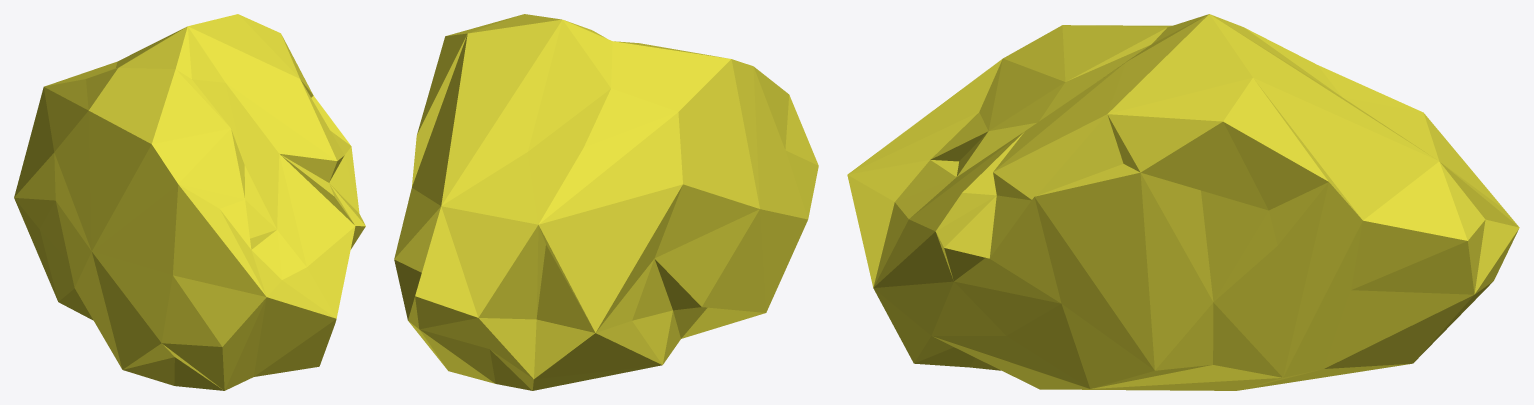
Rendered from meteor_yellow_bond_resin_02.glb.
3 renders of one model, left to right at view 1: azimuth 30°, elevation 25°; view 2: azimuth 150°, elevation 25°; view 3: azimuth 270°, elevation 25°, orthographic. The views are drawn at different scales.
Parts seen in each view (by area): view 1: Mesh1.0; view 2: Mesh1.0; view 3: Mesh1.0.
Part boxes in pixels (x1,y1,x2,y2): Mesh1.0: [14, 14, 365, 390]; Mesh1.0: [394, 14, 818, 390]; Mesh1.0: [847, 14, 1519, 390].
Size of the model in its own units: 1.36 by 1.52 by 2.6.
